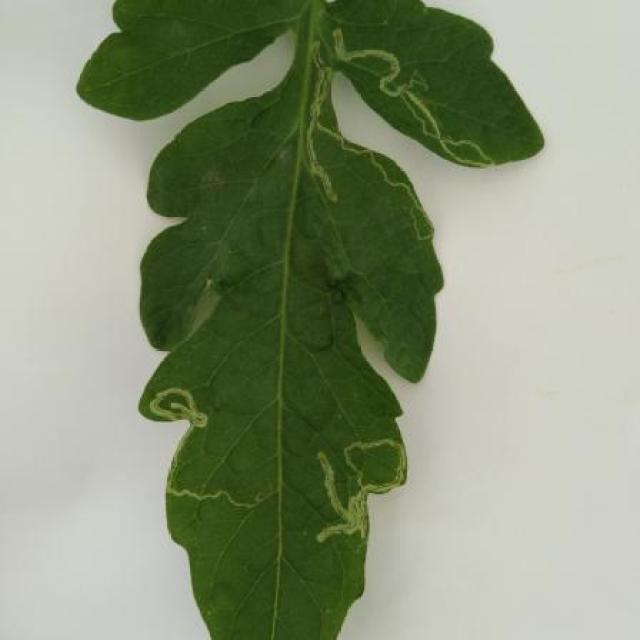Leaf Miner: (134, 94, 449, 640), (332, 0, 552, 170)
